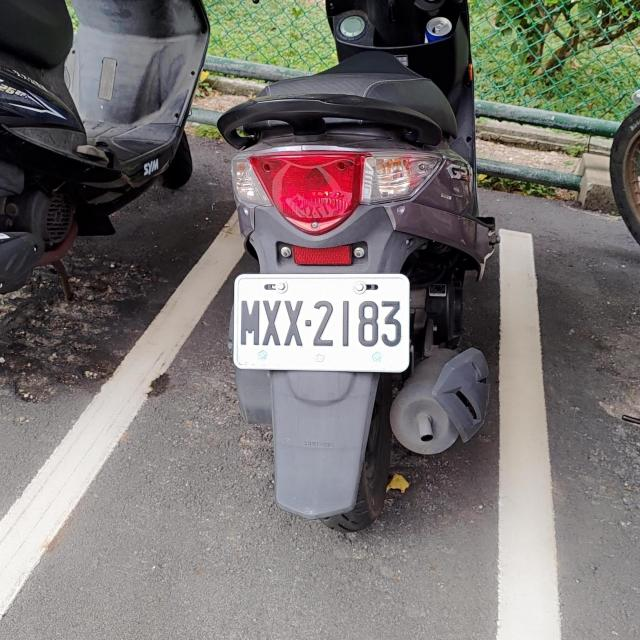W: (233, 273, 408, 371)
